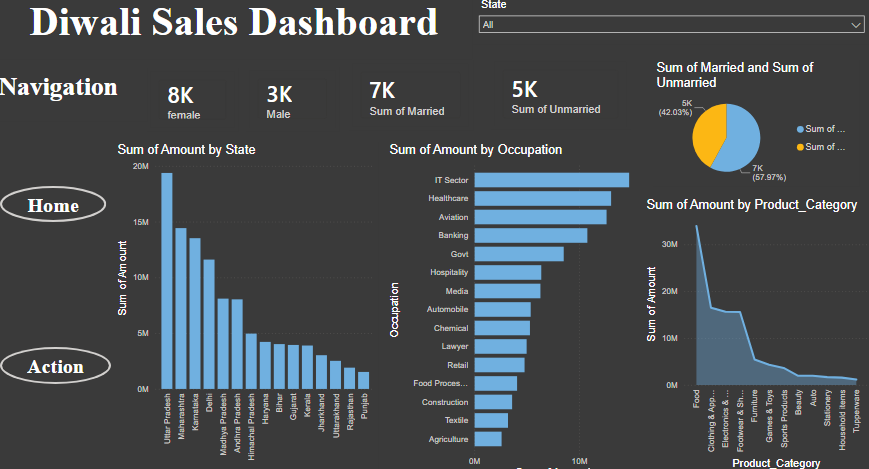

The page's visual inventory and layout, read from the dashboard file:
{"tool":"powerbi","page":{"name":"Action","canvas":[1280,720],"ordinal":1},"visuals":[{"type":"slicer","fields":{"Values":["diwalisale (1).State"]},"box":[696.2,0,583.3,71.8],"z":0},{"type":"cardVisual","fields":{"Data":["diwalisale (1).female"]},"box":[221.8,106.4,133.3,92.3],"z":1000},{"type":"cardVisual","fields":{"Data":["diwalisale (1).Male"]},"box":[366.7,105.1,135.9,93.6],"z":2000},{"type":"cardVisual","fields":{"Data":["Sum(diwalisale (1).Married)"]},"box":[516.7,94.9,180.8,102.6],"z":3000},{"type":"cardVisual","fields":{"Data":["Sum(diwalisale (1).Unmarried)"]},"box":[724.4,92.3,203.8,105.1],"z":4000},{"type":"textbox","box":[0,0,697.4,93.6],"z":5000},{"type":"textbox","box":[0,106,222,78],"z":6000},{"type":"actionButton","box":[7.7,279.5,155.1,52.6],"z":7000},{"type":"actionButton","box":[8,514,162,54],"z":8000},{"type":"columnChart","fields":{"Category":["diwalisale (1).State"],"Y":["Sum(diwalisale (1).Amount)"]},"box":[173.1,214.1,385.9,506.4],"z":9000},{"type":"clusteredBarChart","fields":{"Y":["Sum(diwalisale (1).Amount)"],"Category":["diwalisale (1).Occupation"]},"box":[570.5,214.1,375.6,496.2],"z":10000},{"type":"pieChart","fields":{"Y":["Sum(diwalisale (1).Married)","Sum(diwalisale (1).Unmarried)"]},"box":[960.9,94.3,302.3,185.1],"z":11000},{"type":"areaChart","fields":{"Category":["diwalisale (1).Product_Category"],"Y":["Sum(diwalisale (1).Amount)"]},"box":[946,295.4,333.3,410.3],"z":11001}]}

Visuals, with their boxes on the page's 1280x720 design canvas (x1, y1, x2, y2). These are canvas units, not pixel positions in the 869x469 screenshot, which may show the page scaled, cropped or inside an application window:
slicer - diwalisale (1).State: locate(696, 0, 1280, 72)
cardVisual - diwalisale (1).female: locate(222, 106, 355, 199)
cardVisual - diwalisale (1).Male: locate(367, 105, 503, 199)
cardVisual - Sum(diwalisale (1).Married): locate(517, 95, 698, 198)
cardVisual - Sum(diwalisale (1).Unmarried): locate(724, 92, 928, 197)
textbox: locate(0, 0, 697, 94)
textbox: locate(0, 106, 222, 184)
actionButton: locate(8, 280, 163, 332)
actionButton: locate(8, 514, 170, 568)
columnChart - diwalisale (1).State x Sum(diwalisale (1).Amount): locate(173, 214, 559, 720)
clusteredBarChart - Sum(diwalisale (1).Amount) x diwalisale (1).Occupation: locate(570, 214, 946, 710)
pieChart - Sum(diwalisale (1).Married) x Sum(diwalisale (1).Unmarried): locate(961, 94, 1263, 279)
areaChart - diwalisale (1).Product_Category x Sum(diwalisale (1).Amount): locate(946, 295, 1279, 706)
